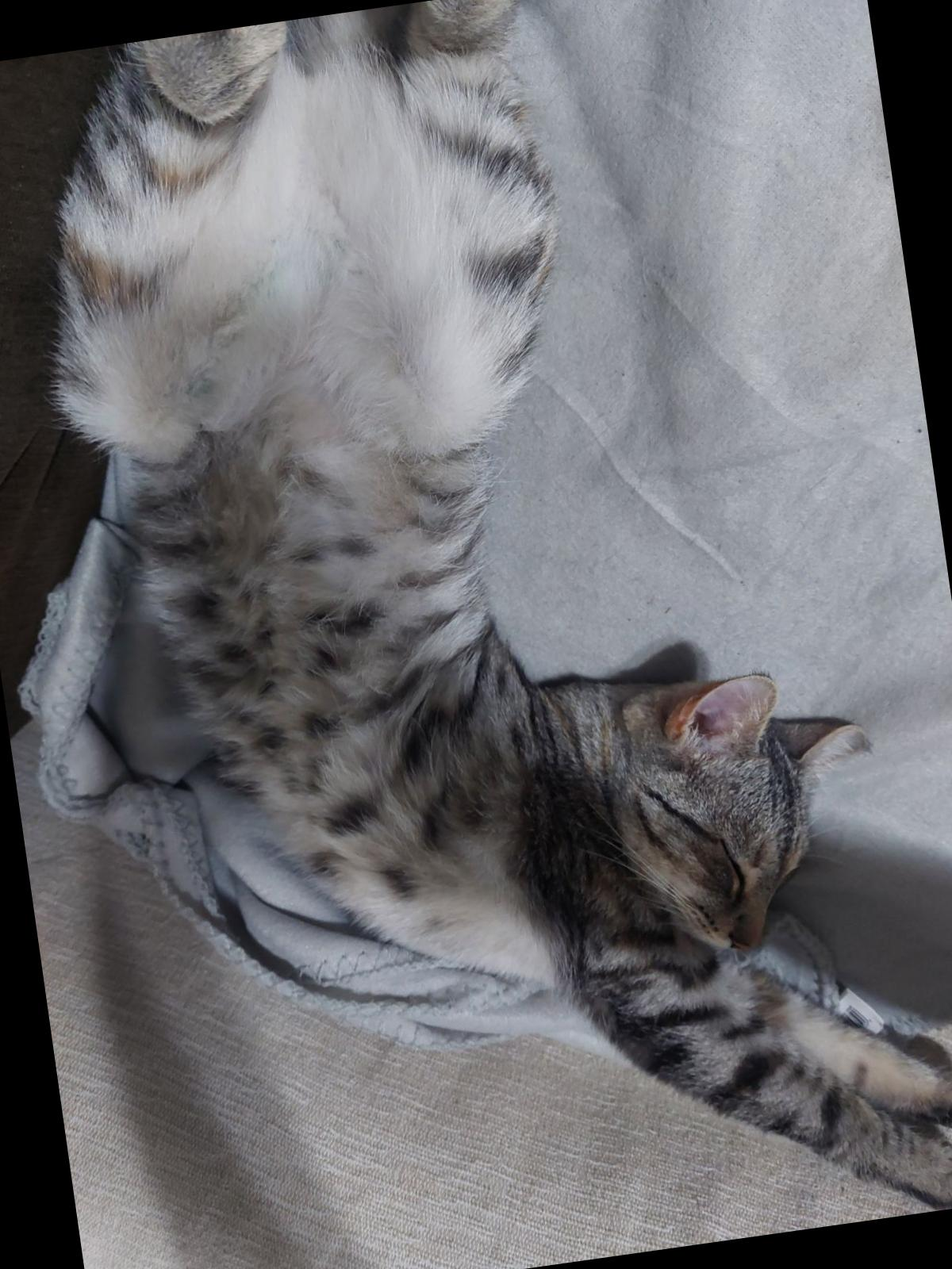macka: (16, 0, 952, 1269)
